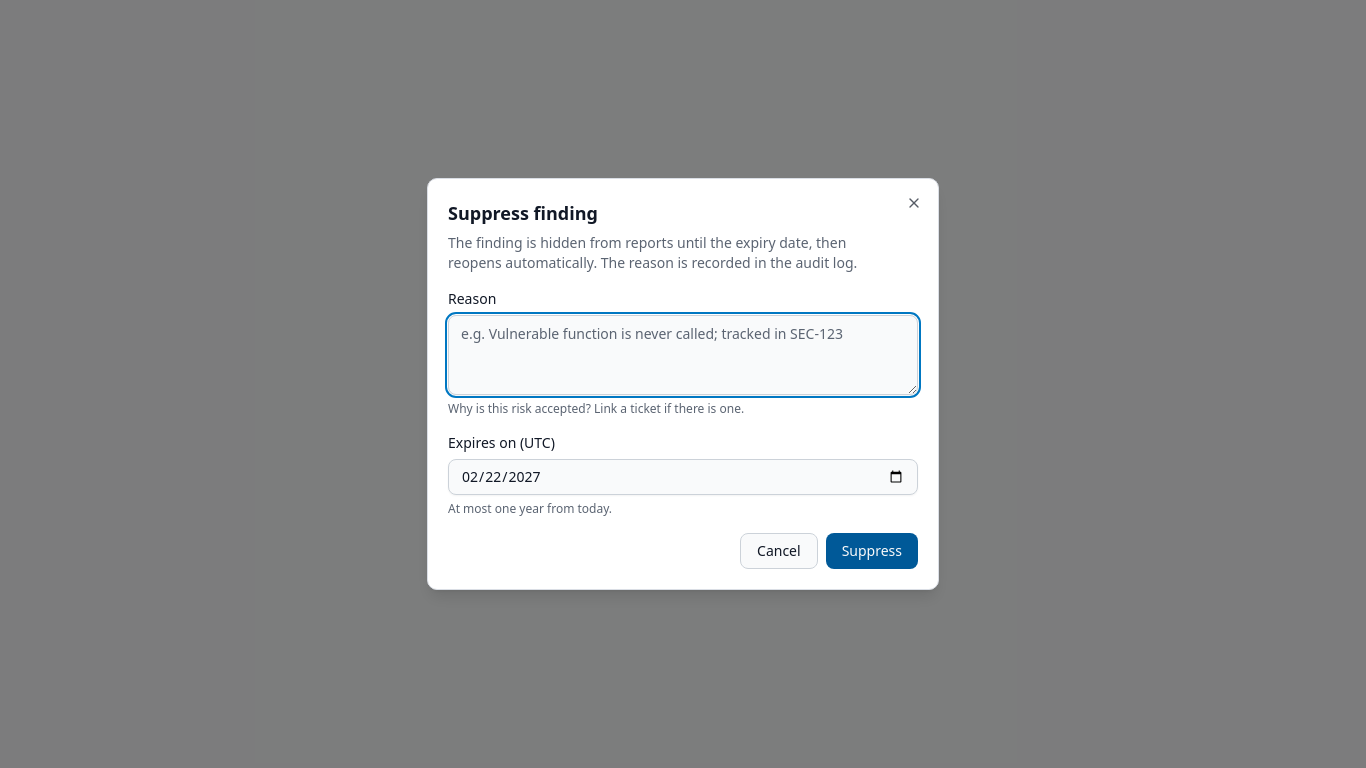
Test: SuppressDialog › maps server field errors onto the form
This screenshot has width=1366, height=768.
Step 1. Type "Accepted risk" into the text box labelled "Reason" → (683, 355), box [448,315,918,395]
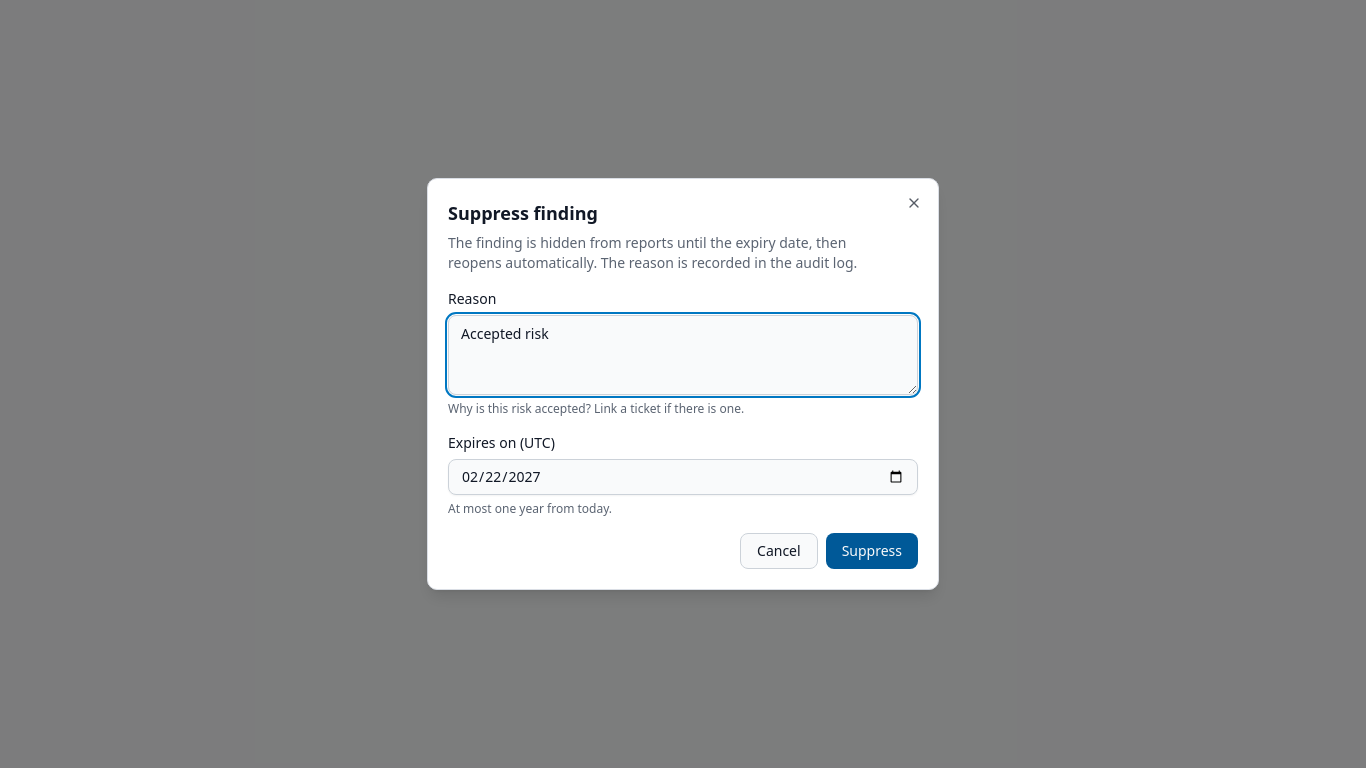
Step 2. Click the button "Suppress" → (872, 551), box [826,533,918,569]
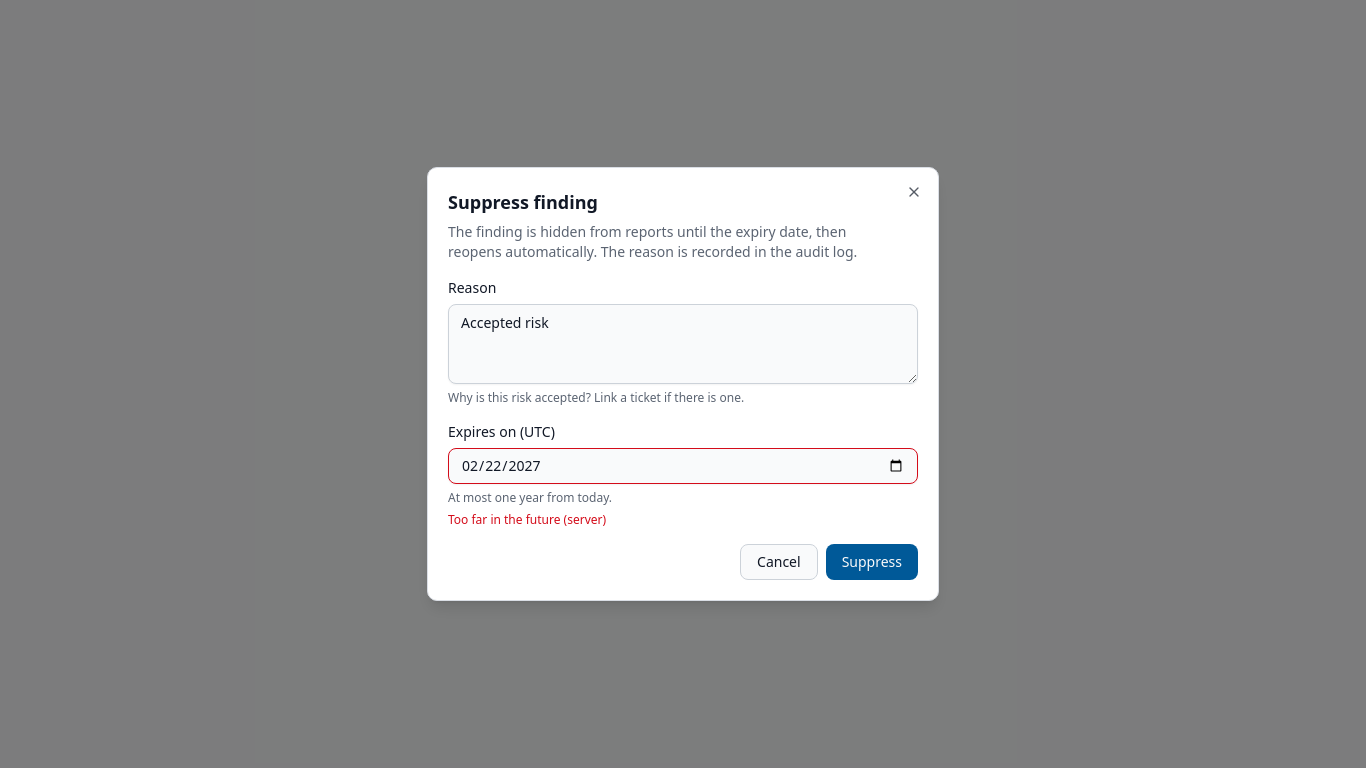
Expected: the text "Too far in the future (server)" is shown, [448,511,606,528]
